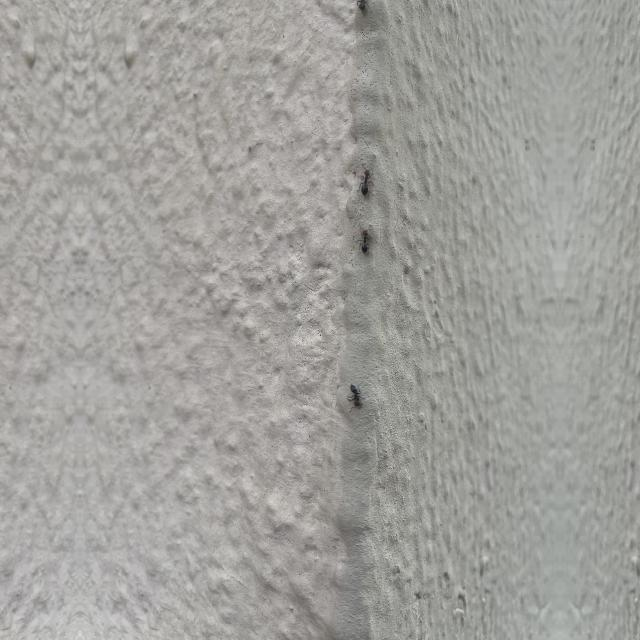Crematogaster: (356, 224, 374, 256), (346, 381, 364, 412), (360, 168, 376, 200), (344, 0, 372, 12)
